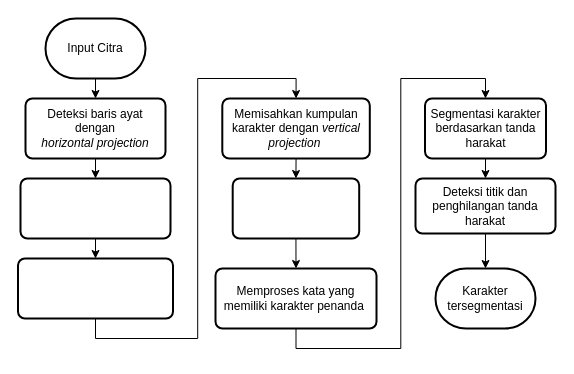
This 574x374 diagram has some shape labels left out. The centre of each missing label's shape, as x and y in pixels:
"Memisahkan tanda harakat dan tubuh karakter" belongs at pixel 95 288.
"Menentukan baseline per baris ayat" belongs at pixel 95 208.
"Mengelompokan tanda harakat dan kumpulan karakter menjadi kata" belongs at pixel 295 208.
